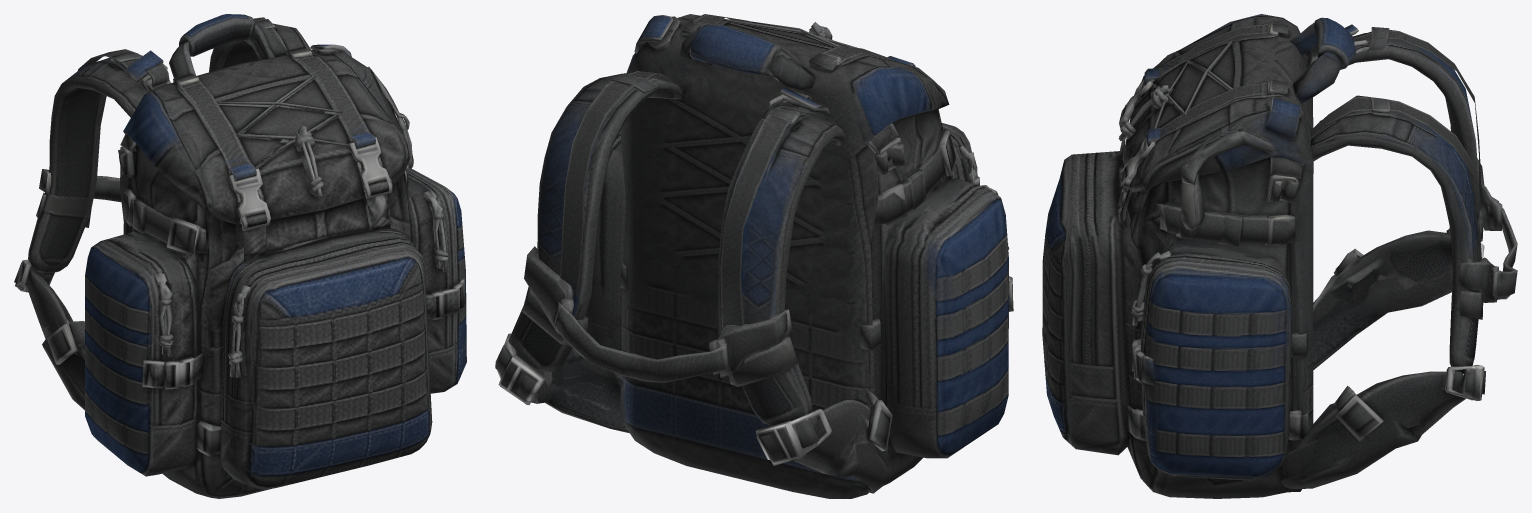
The model's file is backpack_r.glb.
The picture shows the model from 3 angles, left to right: view 1: azimuth 30°, elevation 25°; view 2: azimuth 150°, elevation 25°; view 3: azimuth 270°, elevation 25°; orthographic projection. The views are drawn at different scales.
Bounding box in the file's own units: 0.8306 × 0.9517 × 0.9502.
1 material, 1 textured.
